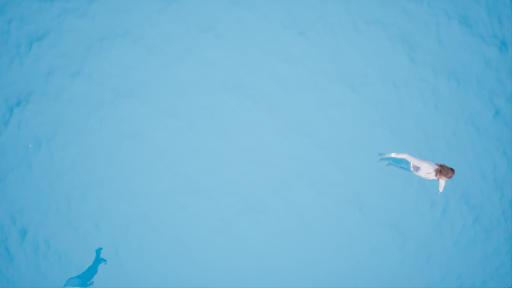person: (378, 150, 458, 198)
